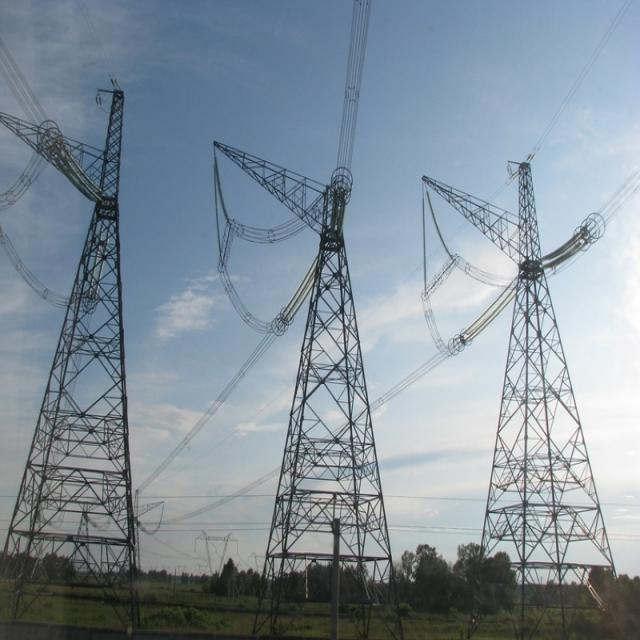non-critical vegetation: (0, 62, 186, 604), (254, 138, 384, 596), (488, 175, 608, 575)
